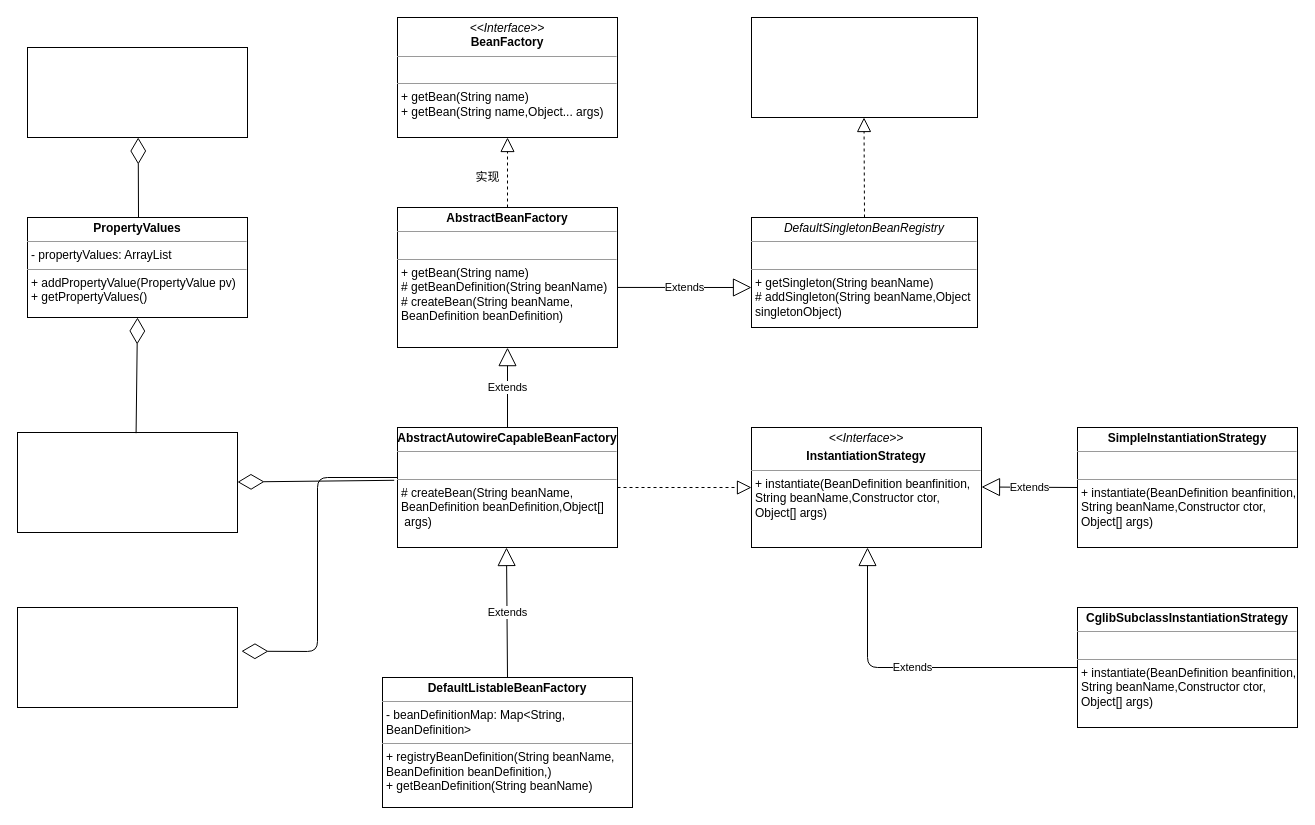
Some shapes in this 1315 by 825 pixel diagram are drawn without their labels. The box of each missing label's shape, as (x1, y1, x2, y2) in pixels:
<<Interface>> SingletonBeanRegistry + getSingleton(String beanName): (750, 16, 978, 118)
BeanDifinition - beanClass: Class - propertyValues: PropertyValues: (16, 432, 238, 532)
BeanReference - beanName: String + getBeanName(): (16, 606, 238, 708)
PropertyValue - name: String - value: Object: (26, 46, 248, 138)
